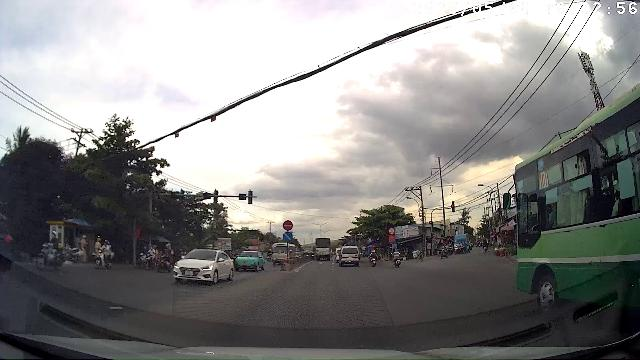102-cam-di-nguoc-chieu: (283, 220, 293, 230)
302a-huong-phai-di-vong-chuong-ngai-vat-1: (283, 232, 293, 242)
